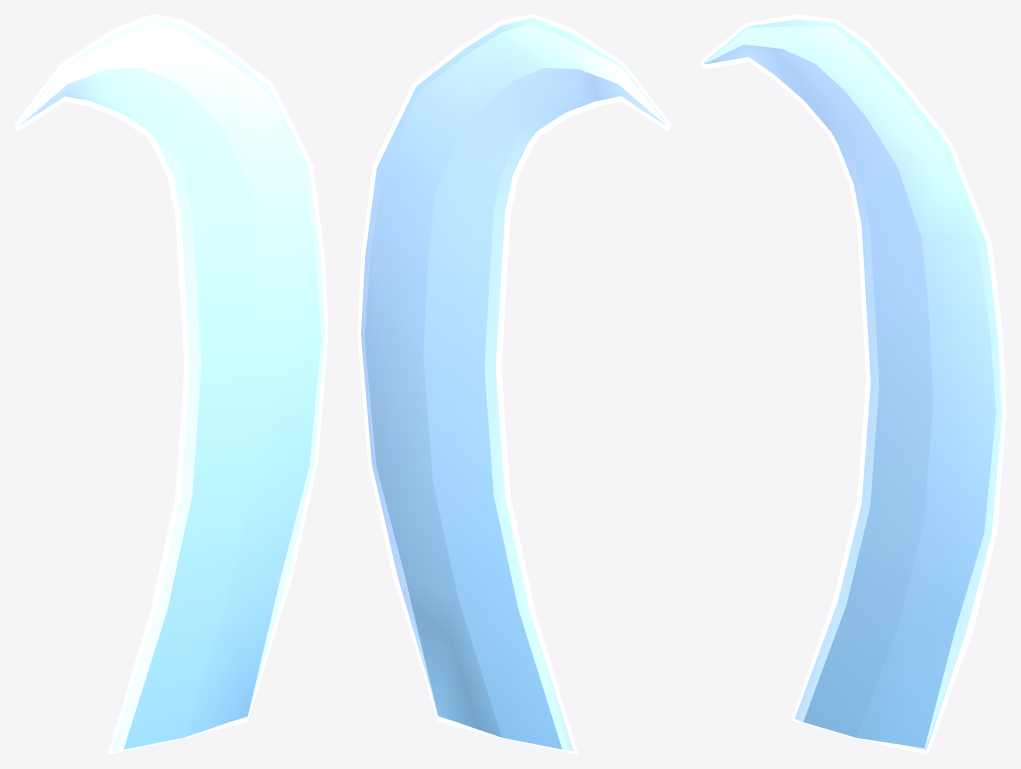
File: steel_blade (19).glb
3 renders of one model, left to right at view 1: azimuth 30°, elevation 25°; view 2: azimuth 150°, elevation 25°; view 3: azimuth 330°, elevation 25°, orthographic. The views are drawn at different scales.
Parts seen in each view (by area): view 1: steel_blade_steel.044; view 2: steel_blade_steel.044; view 3: steel_blade_steel.044.
Boxes of the visible parts, x1=… form: steel_blade_steel.044: x1=14, y1=14, x2=328, y2=754; steel_blade_steel.044: x1=357, y1=14, x2=671, y2=754; steel_blade_steel.044: x1=700, y1=14, x2=1006, y2=754.
Bounding box in the file's own units: 4.65 × 10.35 × 0.241.
Materials: 1 (1 with a texture image).
